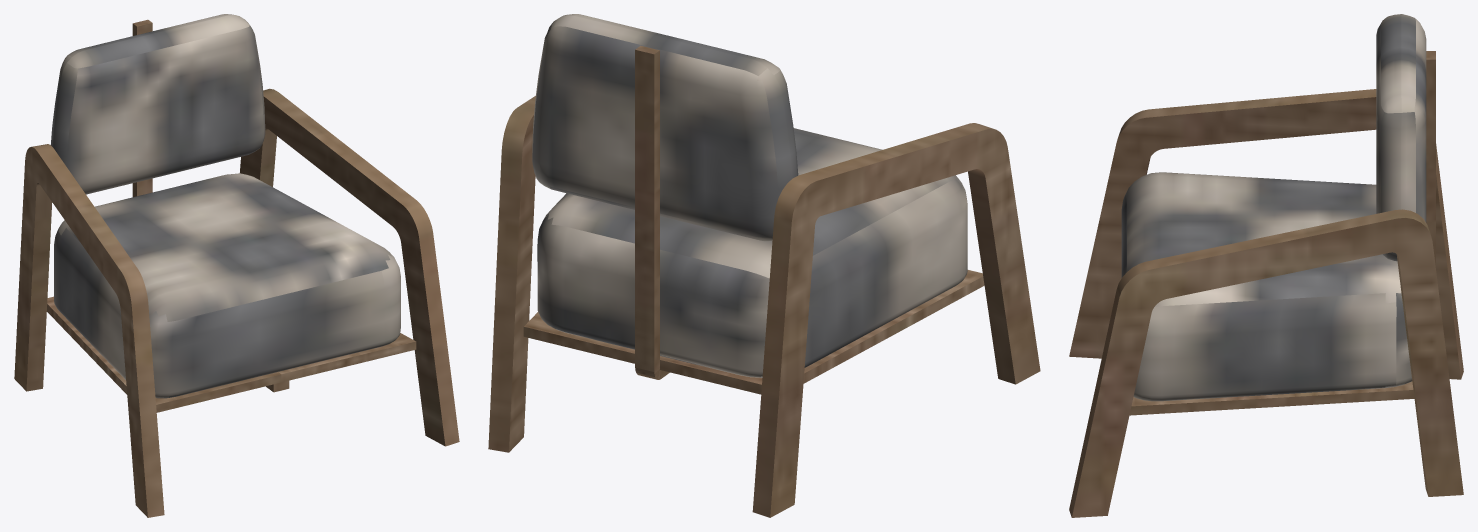
The model's file is Accent Chair.fbx.
3 renders of one model, left to right at view 1: azimuth 30°, elevation 25°; view 2: azimuth 150°, elevation 25°; view 3: azimuth 270°, elevation 25°, orthographic. The views are drawn at different scales.
Parts seen in each view (by area): view 1: Accent Chair; view 2: Accent Chair; view 3: Accent Chair.
Boxes of the visible parts, x1,y1,x2,y2 form: Accent Chair: [14, 14, 459, 517]; Accent Chair: [488, 14, 1040, 517]; Accent Chair: [1069, 14, 1463, 517].
Size of the model in its own units: 80.36 by 83.5 by 79.06.
